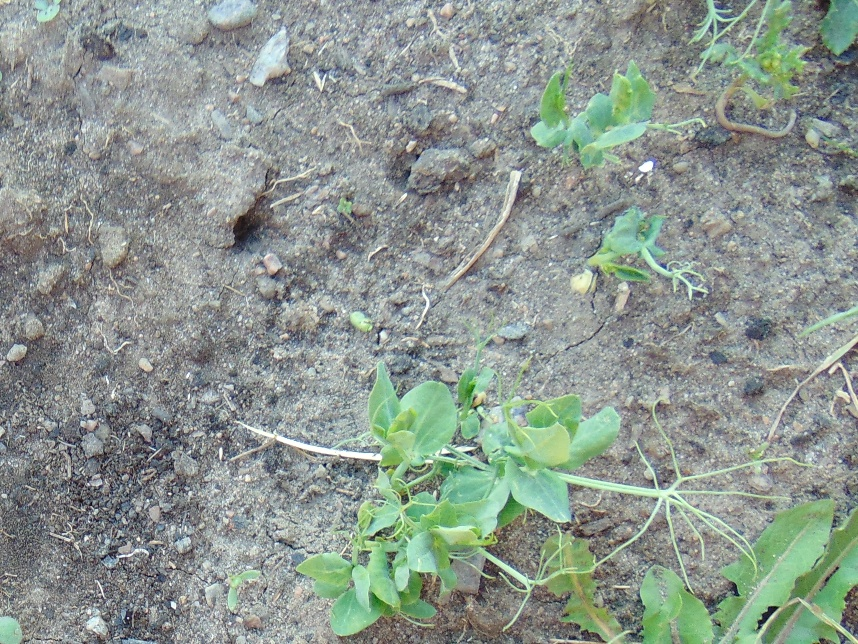crop: (359, 368, 718, 590), (297, 410, 571, 631), (531, 60, 689, 160), (568, 205, 697, 292), (692, 1, 733, 37)
weed: (708, 495, 858, 644), (709, 1, 809, 109), (545, 537, 637, 644), (640, 563, 714, 644), (813, 1, 858, 58), (1, 617, 21, 644), (35, 1, 60, 22)
